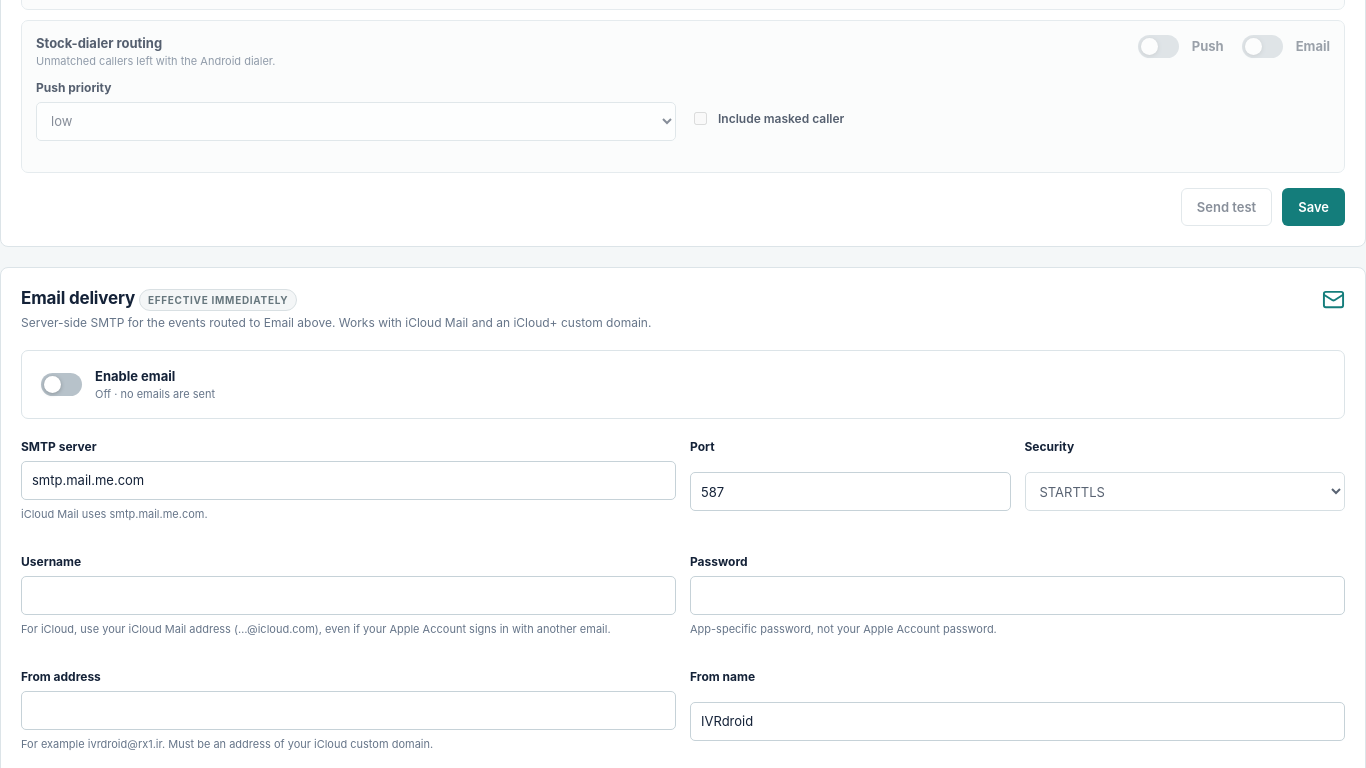
Test case: email settings › swaps the default port with the security mode
The image size is (1366, 768).
(page scrolled)
Expected: the heading "Email delivery Effective immediately" is shown, [21,288,297,311]
Click the checkbox labelled "Enable email Off · no emails are sent" at (62, 384), box [21,350,1345,419]
(page scrolled)
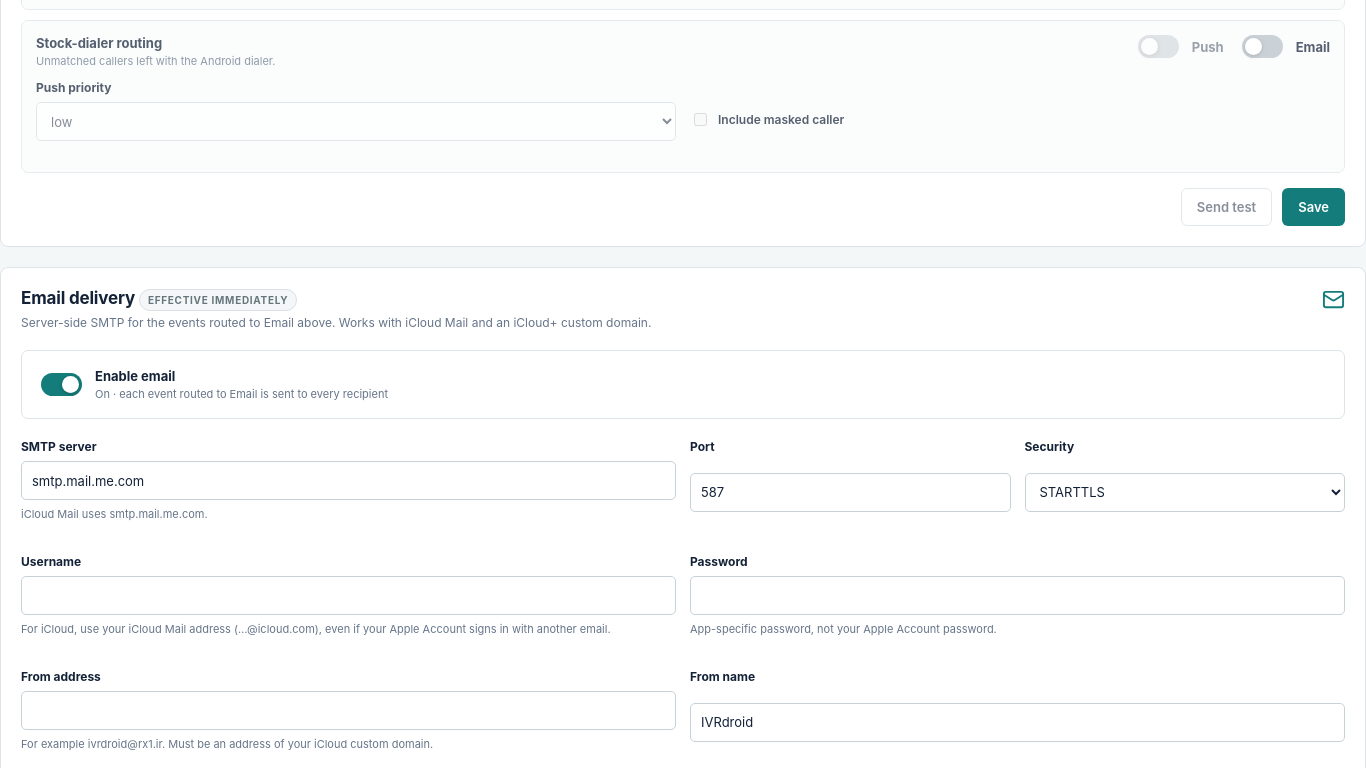
Select "SSL/TLS" in the dropdown labelled "Security" at (1185, 492), box [1024,473,1345,512]
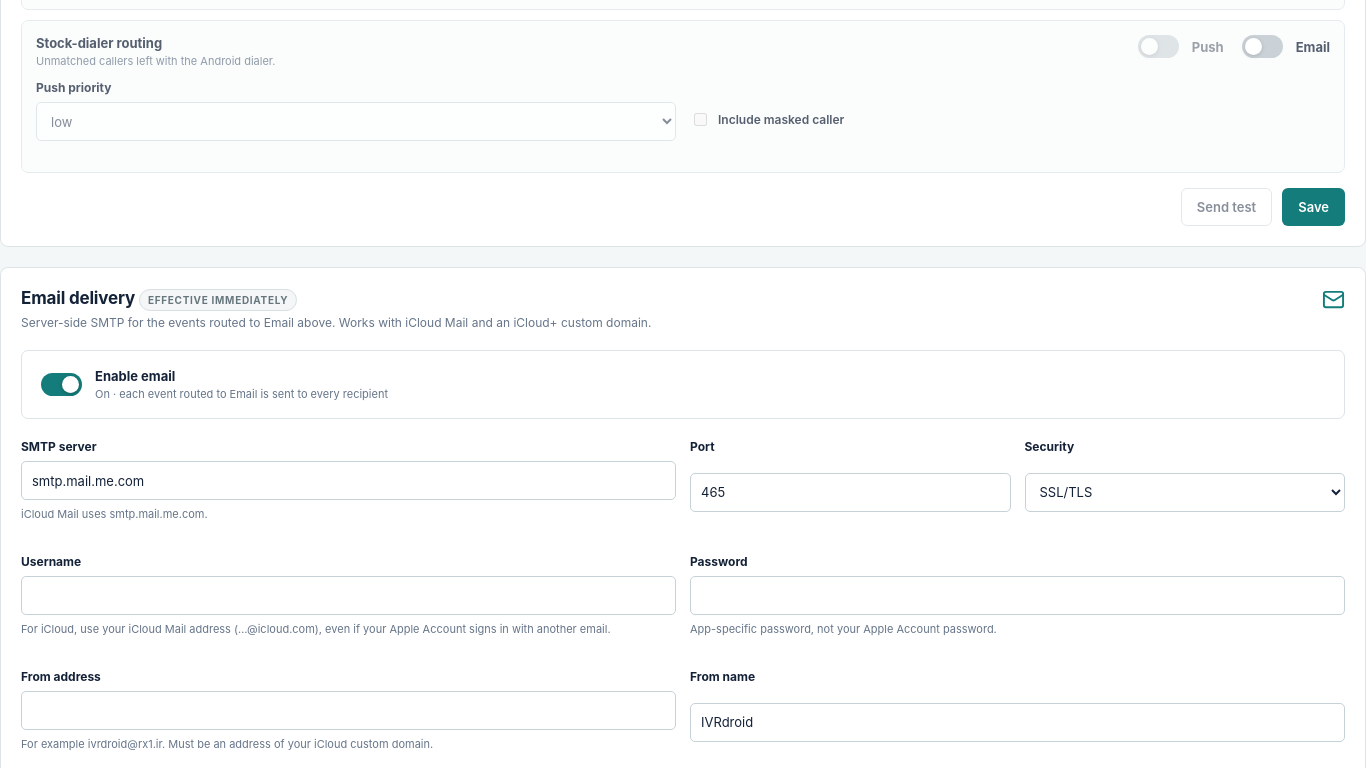
Now the number field labelled "Port" holds "465", box [690,473,1010,512]
Select "STARTTLS" in the dropdown labelled "Security" at (1185, 492), box [1024,473,1345,512]
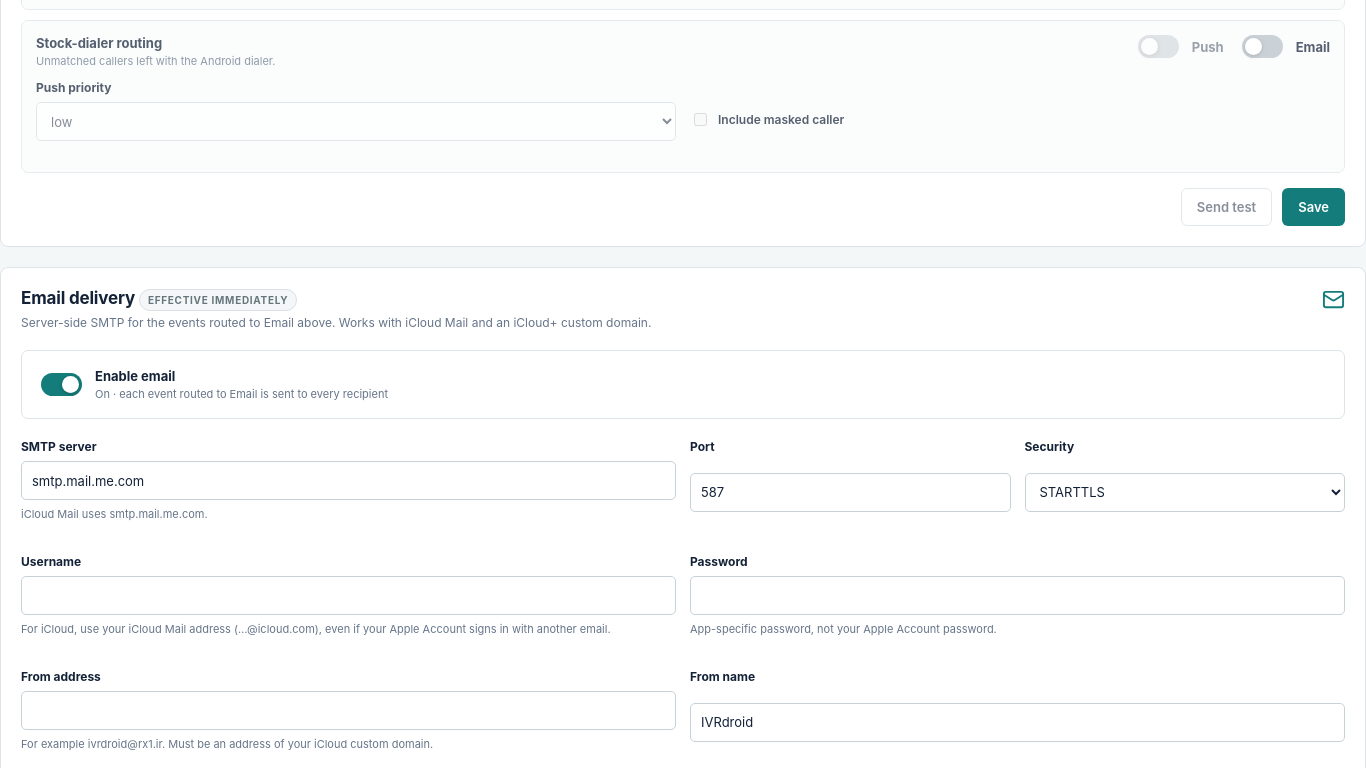
Now the number field labelled "Port" holds "587", box [690,473,1010,512]
